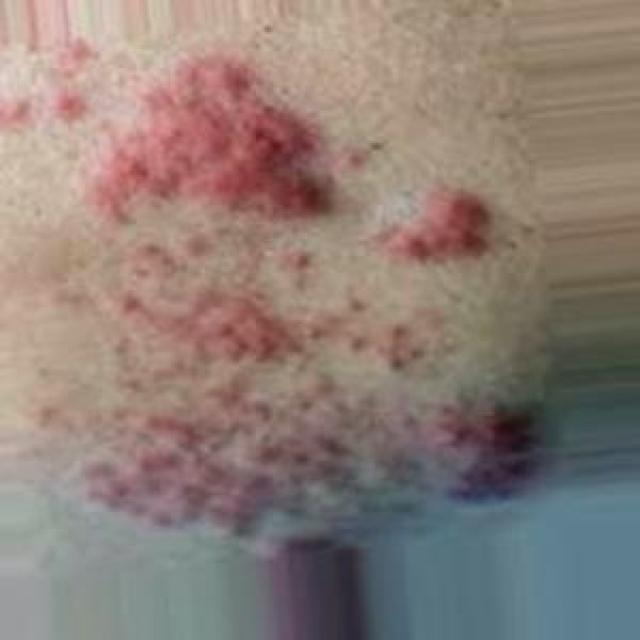Shingles: (0, 43, 535, 534)
